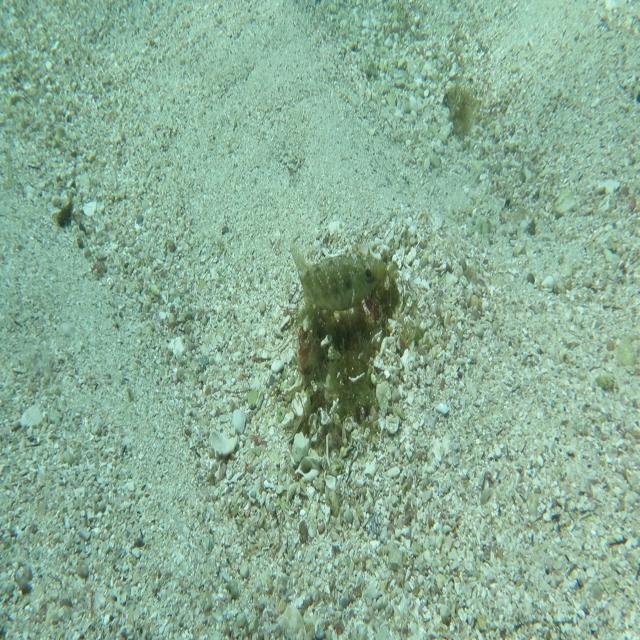FAN: (289, 240, 387, 312)
nest: (277, 241, 408, 449)
vegetation: (444, 73, 474, 140), (55, 198, 77, 230)
